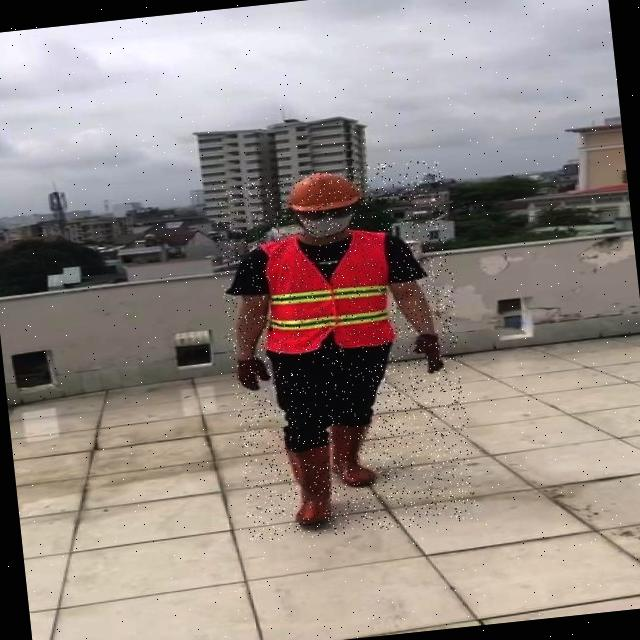boots: (282, 442, 338, 530), (326, 420, 379, 490)
helmet: (284, 168, 363, 214)
vest: (256, 226, 396, 358)
